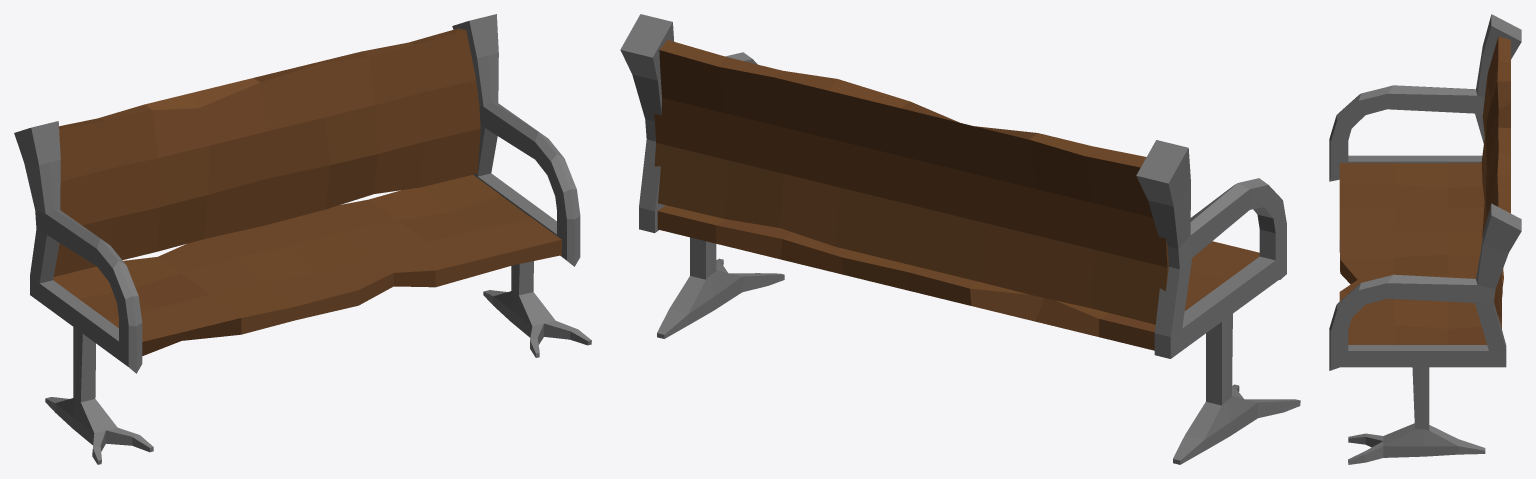
Rendered from Bench.fbx.
3 views of the same model, side by side, from view 1: azimuth 30°, elevation 25°; view 2: azimuth 150°, elevation 25°; view 3: azimuth 270°, elevation 25° (orthographic). The views are drawn at different scales.
Parts seen in each view (by area): view 1: Bench; view 2: Bench; view 3: Bench.
Part boxes in pixels (x1,y1,x2,y2): Bench: (14,14,591,464); Bench: (620,14,1300,464); Bench: (1329,14,1521,464).
Size of the model in its own units: 379 by 201 by 144.
